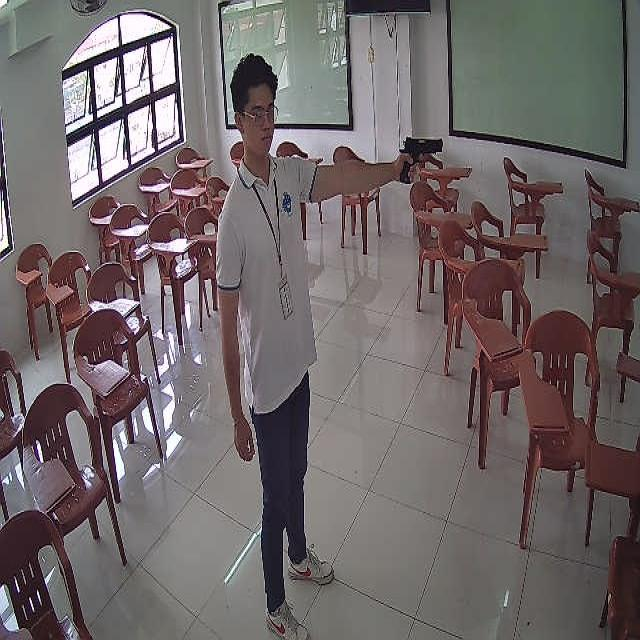pistol: (399, 138, 443, 182)
